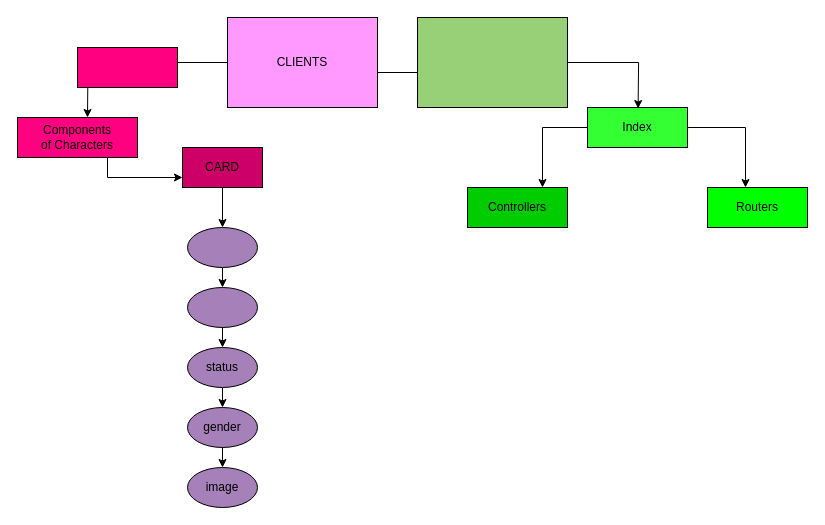
The diagram is 825 pixels wide and 525 high, and some of its shapes have lost their labels. Here are the shapes that lost their labels. From the top down, the box of each, then its label:
(76, 46, 178, 88): FORM
(416, 16, 568, 108): SERVER
(186, 226, 258, 268): ID
(186, 286, 258, 328): name
